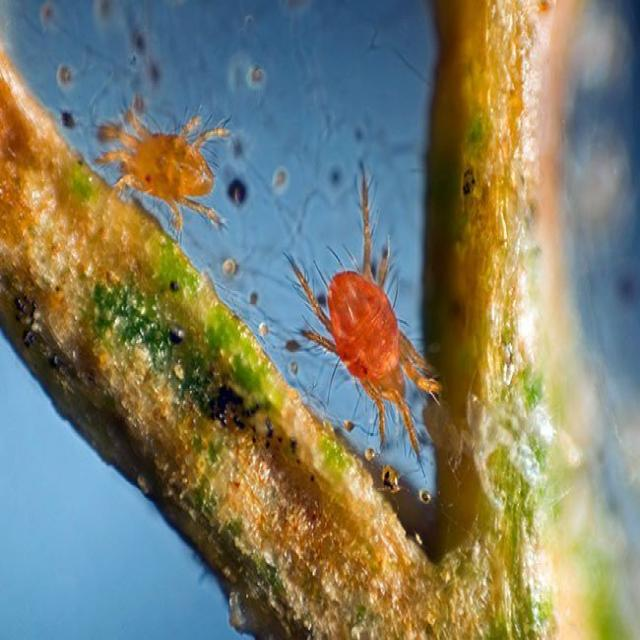Mites: (283, 160, 443, 482), (89, 95, 237, 242)
